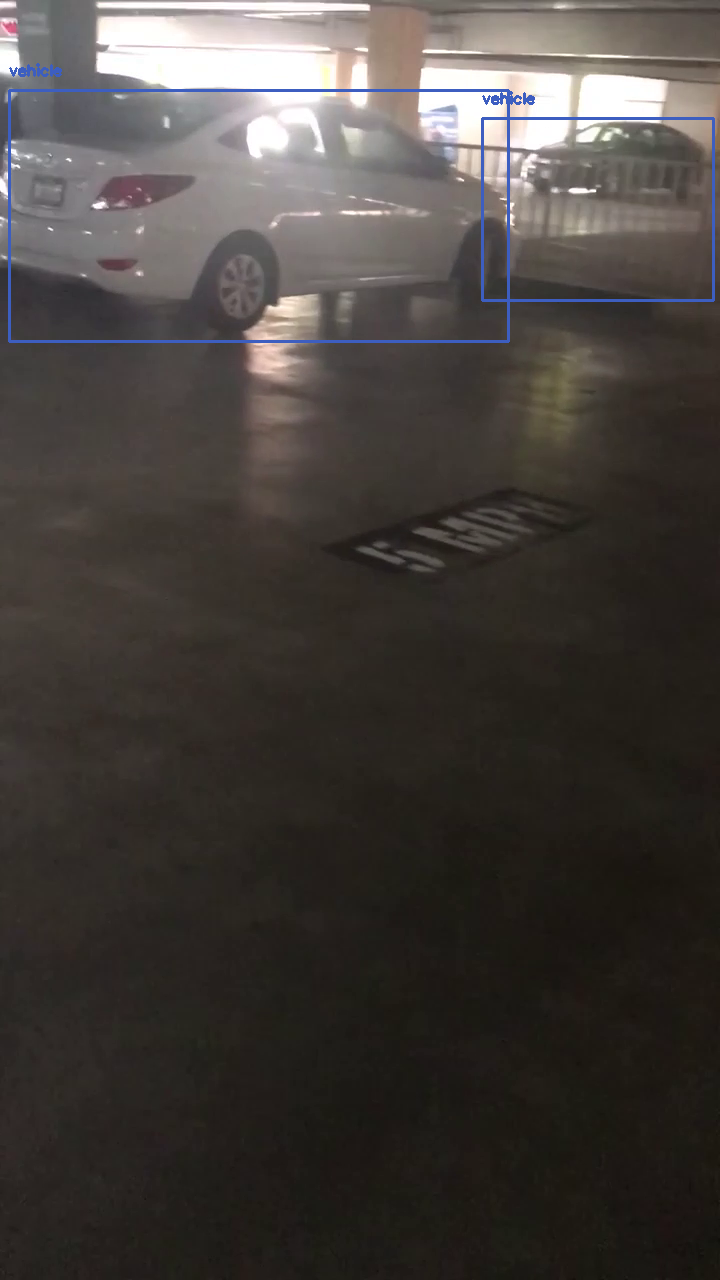vehicle: (9, 90, 508, 341), (482, 118, 713, 300)
